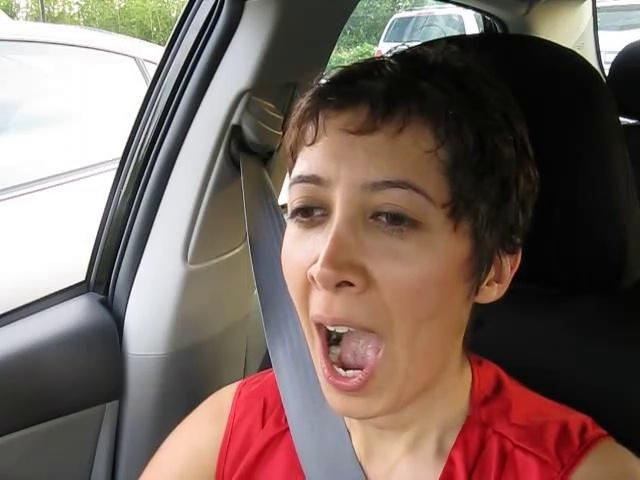close_eyeL: (276, 190, 345, 240)
close_eyeR: (349, 194, 440, 246)
yawn: (283, 304, 411, 403)
